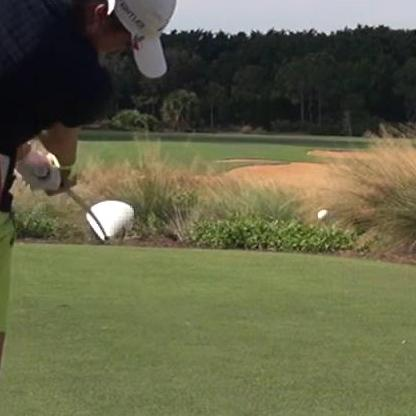golfball: (315, 208, 326, 221)
